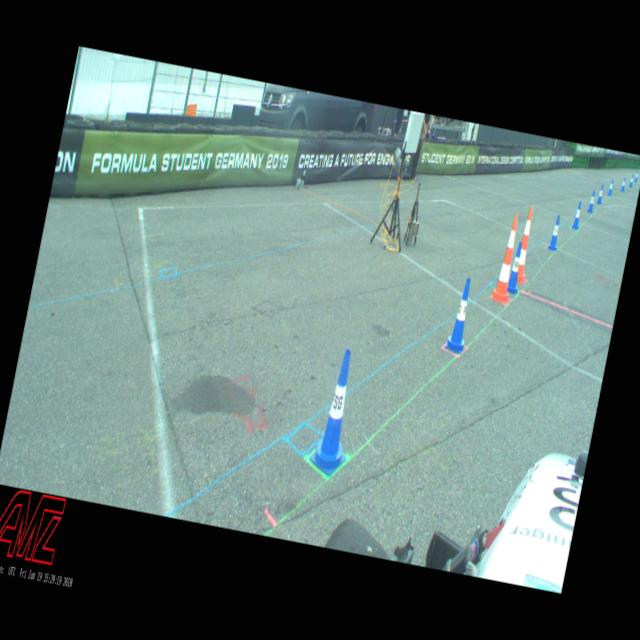blue_cone: (307, 346, 366, 479), (444, 276, 478, 355), (507, 241, 528, 295), (546, 213, 564, 250), (572, 201, 584, 230), (587, 190, 597, 212), (596, 184, 605, 204), (608, 179, 614, 196), (620, 177, 626, 191), (634, 171, 639, 182), (630, 175, 634, 188)
large_orange_cone: (489, 212, 526, 304), (514, 206, 539, 284)
